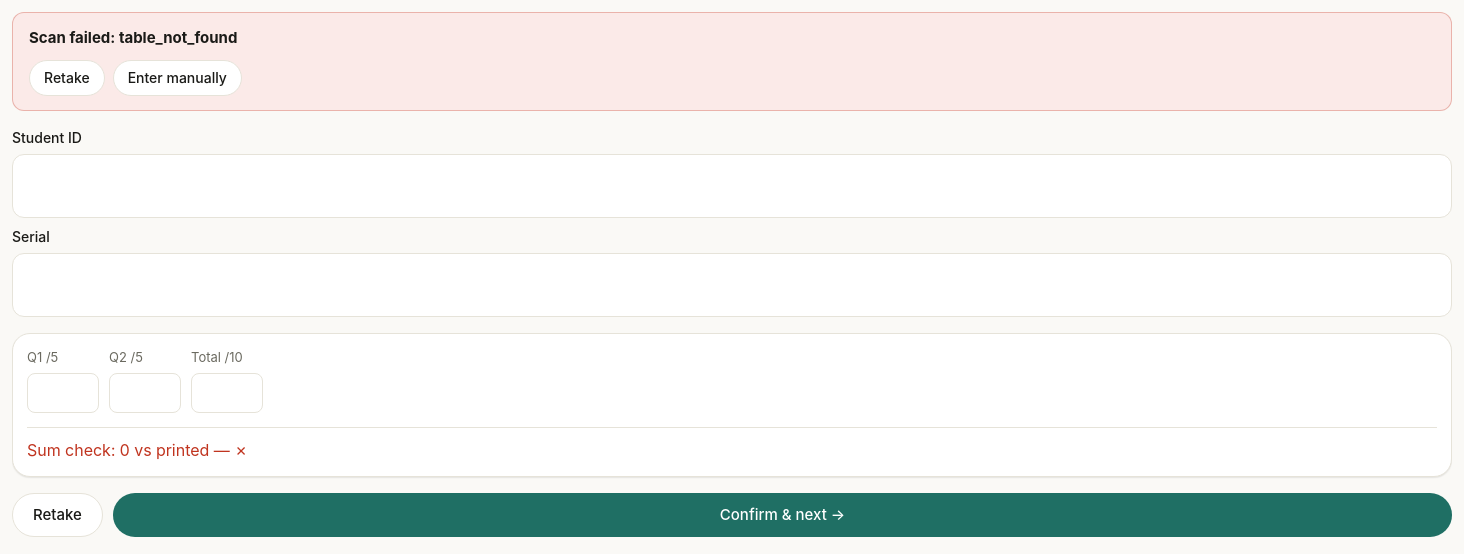
Test: Review — failed scan (7.6) › Enter manually dismisses the banner without losing entered data
The width and height of the screenshot is (1464, 554).
Click the button "Enter manually".
click(177, 78)  # box left=113, top=60, right=242, bottom=96
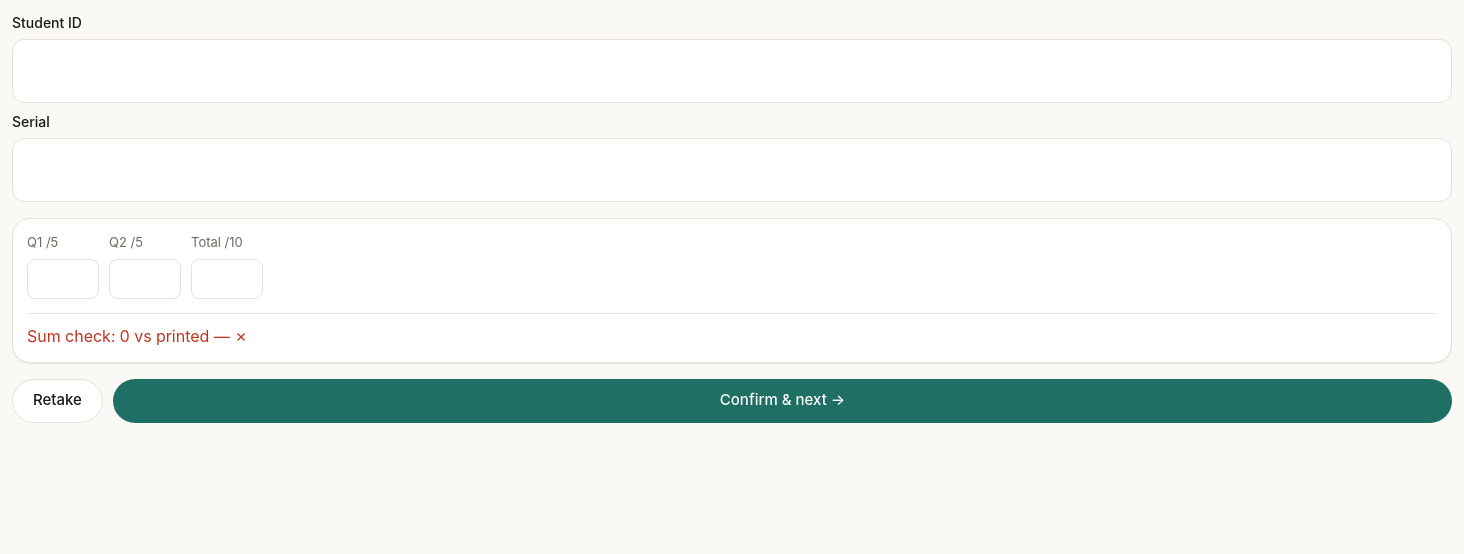
Check: the text "Scan failed:" is gone
